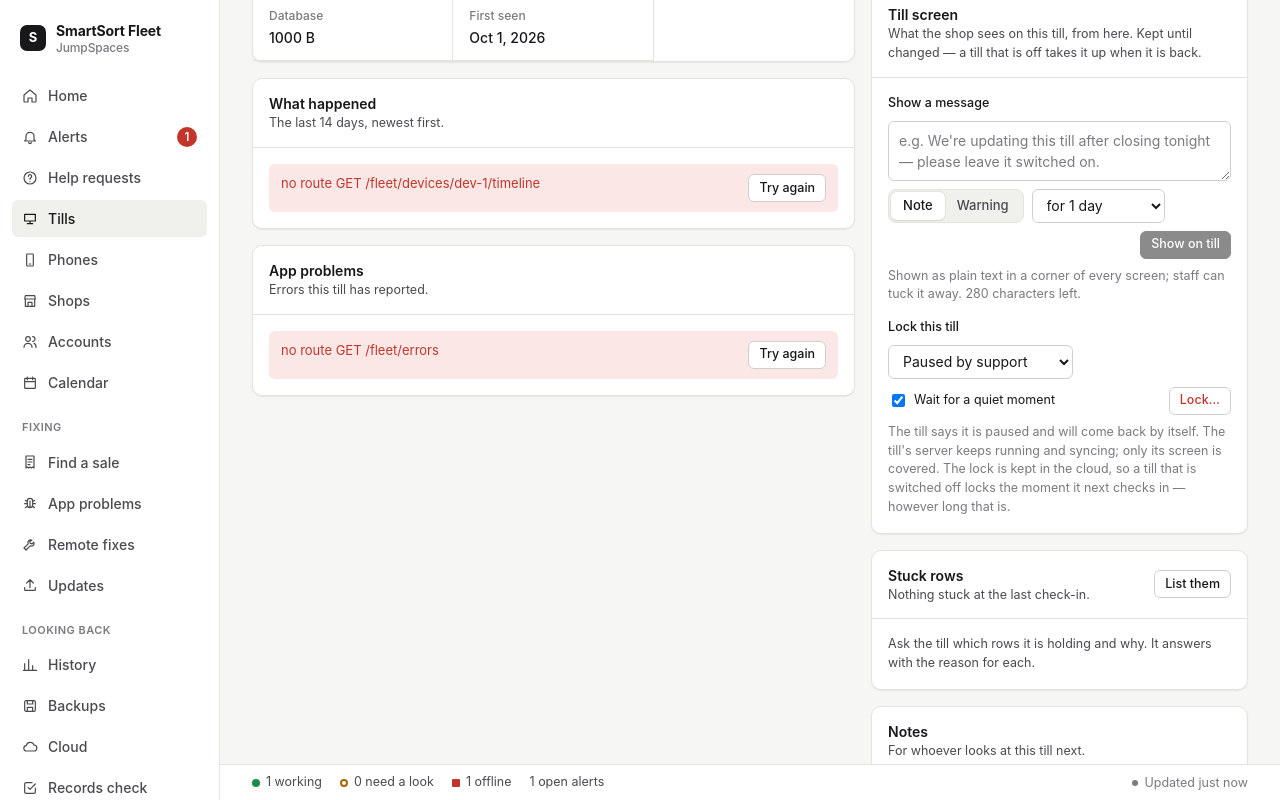
Till remote control › keeps the till live while its page is open, and asks for a password to lock it
Later steps or results of the test are not shown.
(page scrolled)
Click the button "Lock…".
click(1200, 401)  # box x1=1169 y1=387 x2=1231 y2=415
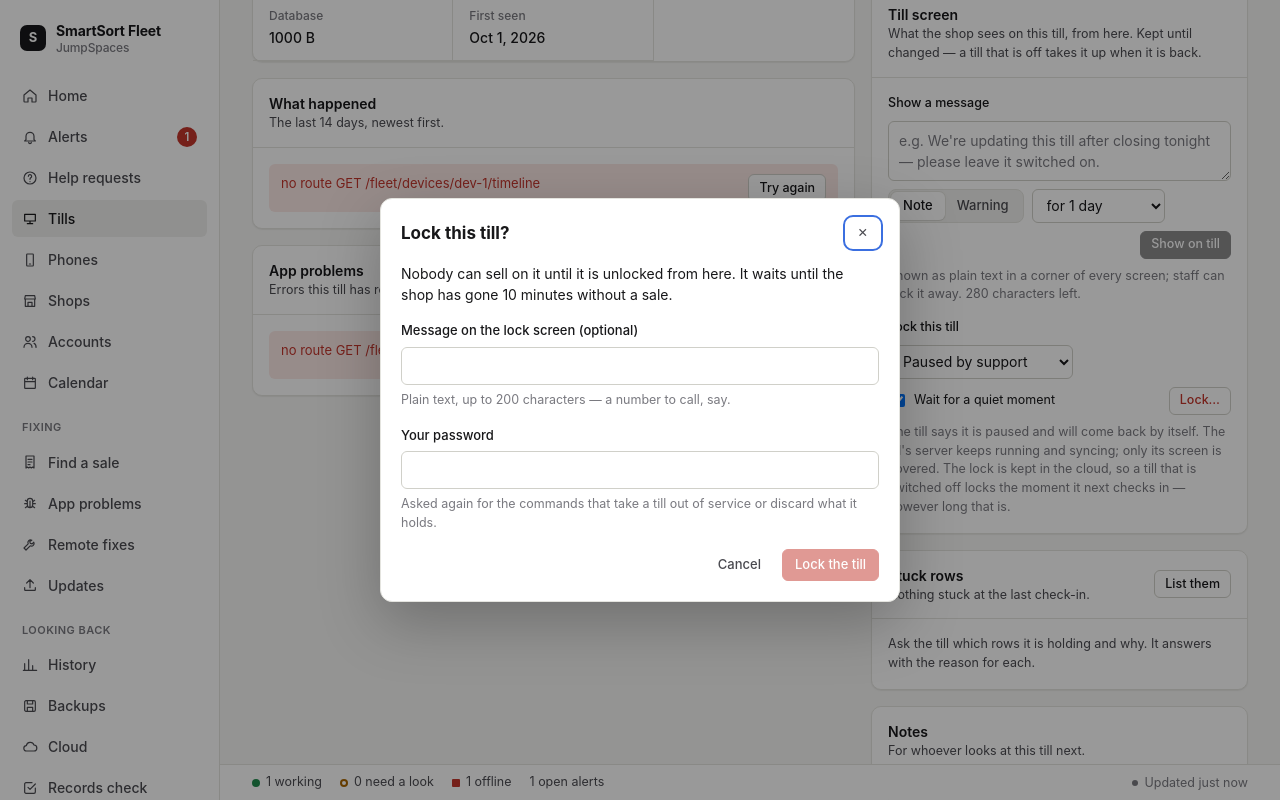
Type "Call 0302 000 000" into the field labelled "Message on the lock screen (optional)".
click(640, 366); type("Call 0302 000 000")  # box x1=401 y1=347 x2=879 y2=385
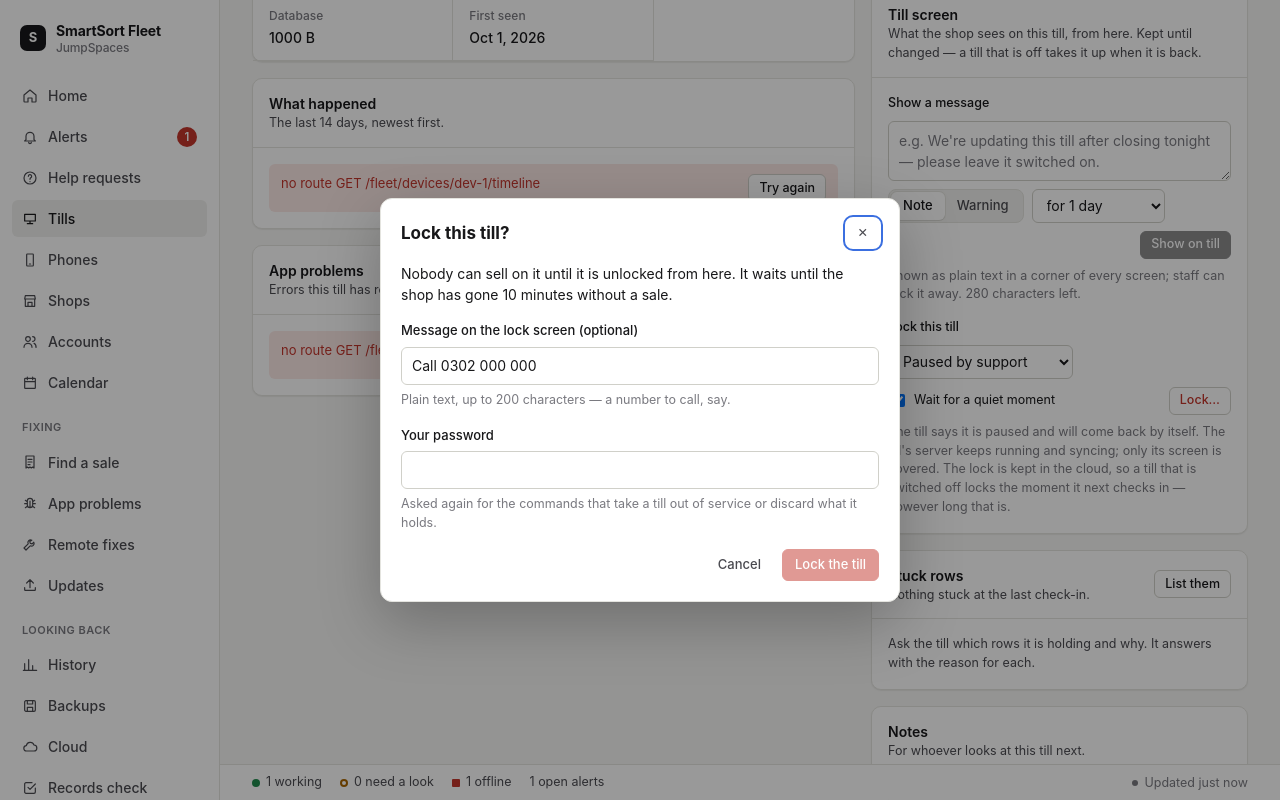
Result: the button "Lock the till" is disabled at x1=782 y1=549 x2=879 y2=581
